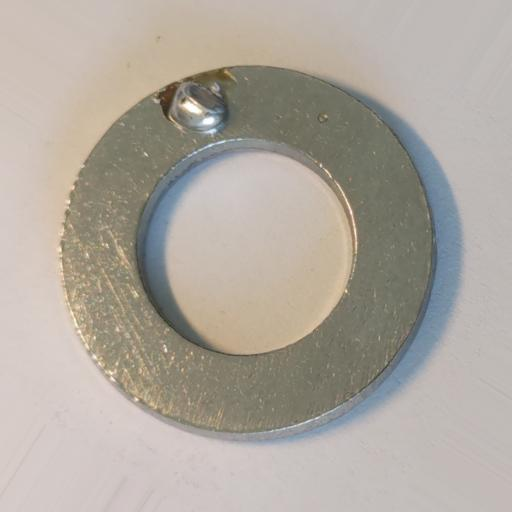excess_material: (166, 79, 231, 134)
